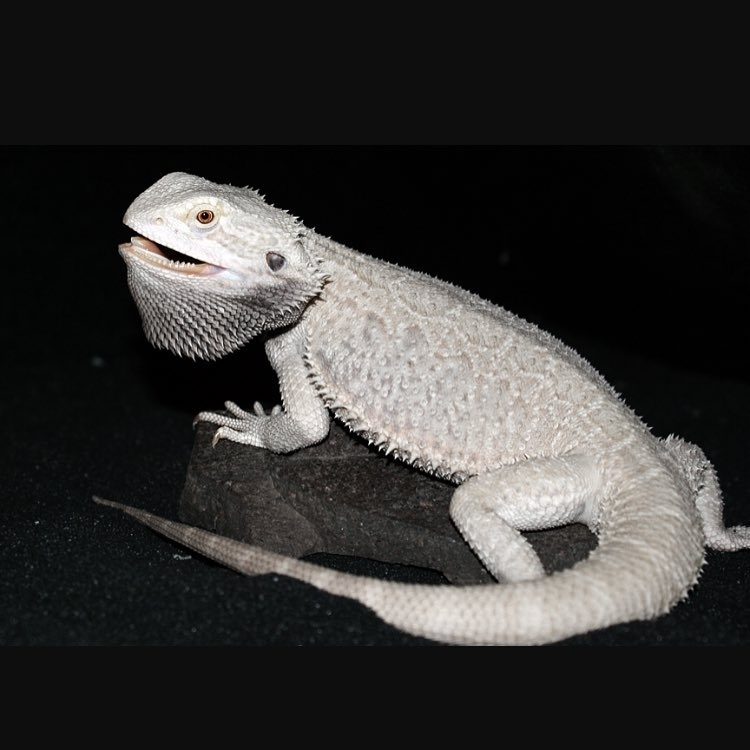bearded: (89, 164, 750, 651)
